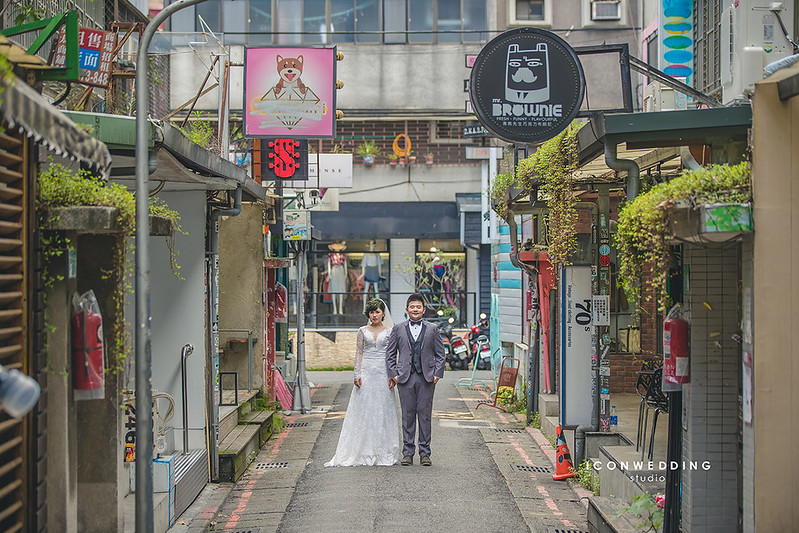people: (350, 299, 400, 471), (400, 291, 439, 465)
